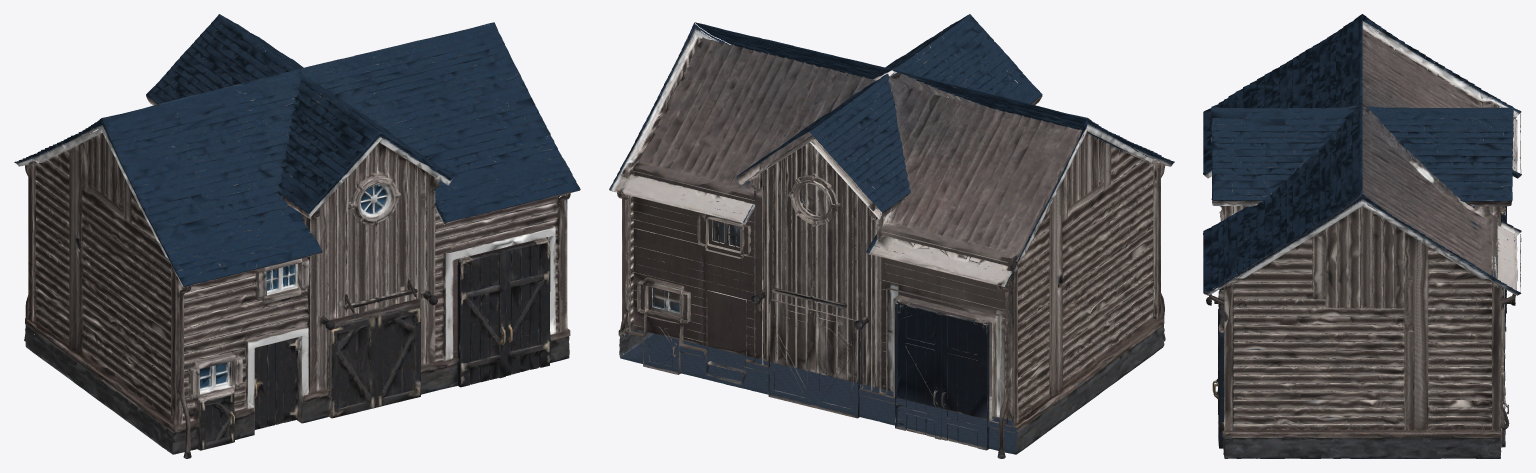
File: pier_block.glb
3 renders of one model, left to right at view 1: azimuth 30°, elevation 25°; view 2: azimuth 150°, elevation 25°; view 3: azimuth 270°, elevation 25°, orthographic. The views are drawn at different scales.
Size of the model in its own units: 1.9 by 1.29 by 1.4.
1 material, 1 textured.
